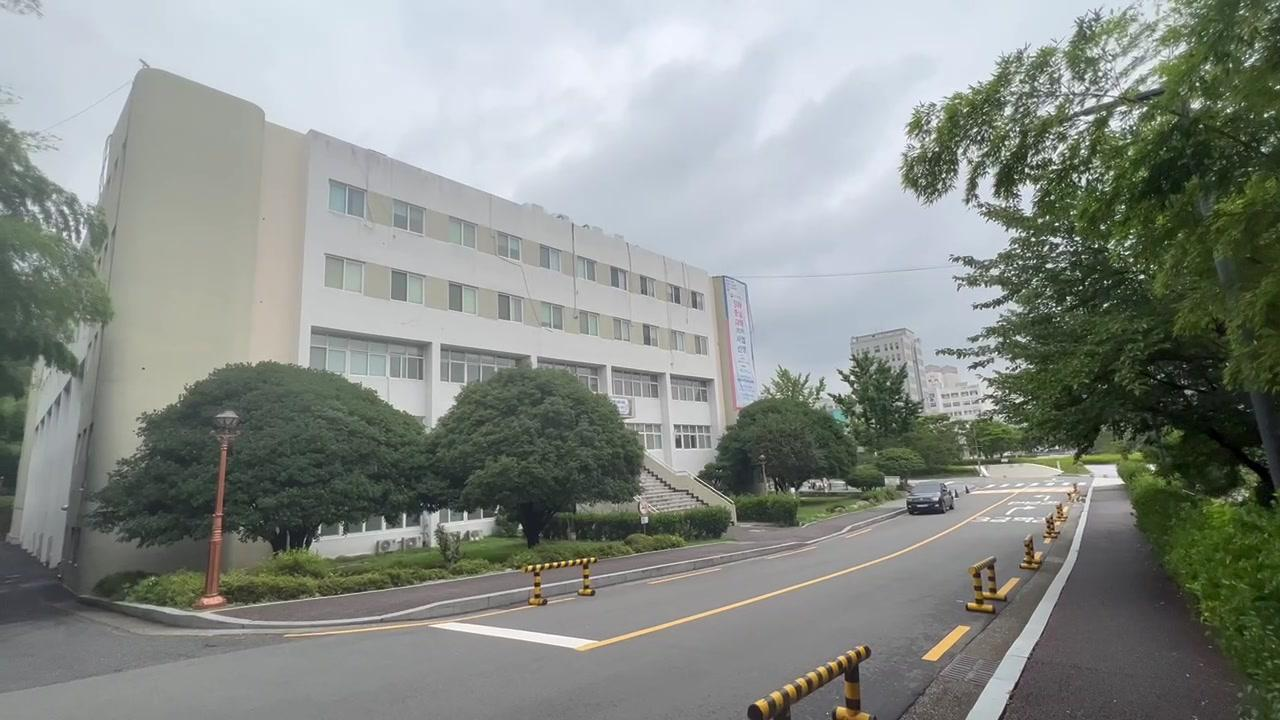building: (136, 78, 767, 358)
